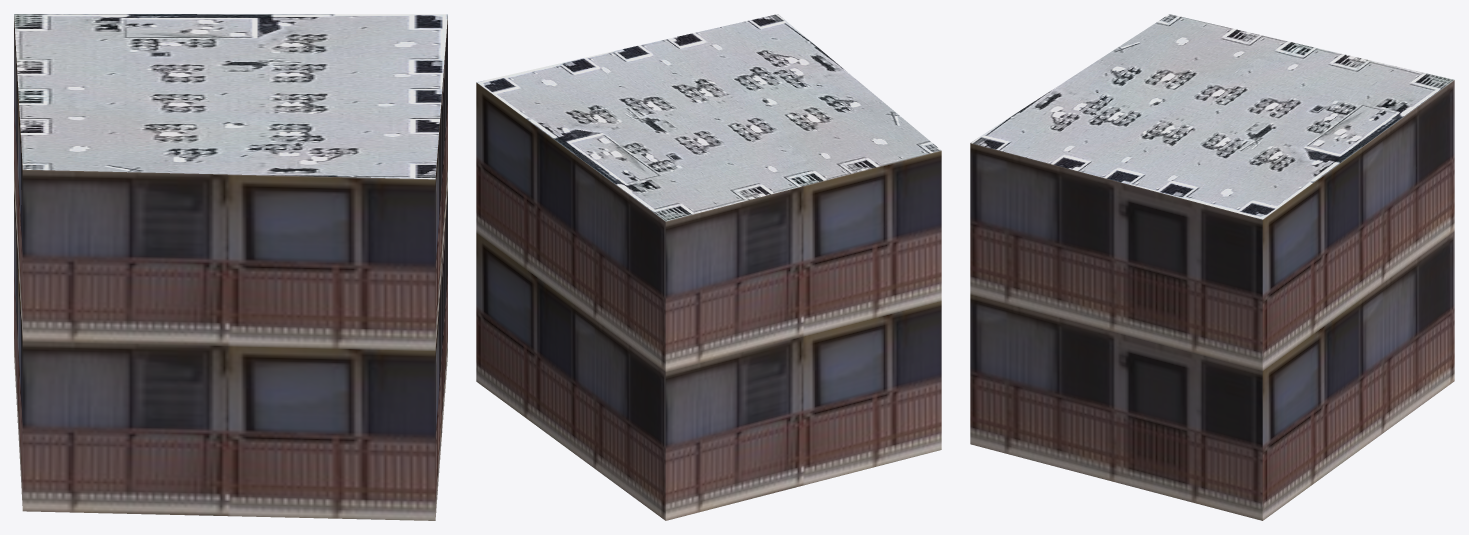
File: ResTex__5190.fbx
3 views of the same model, side by side, from view 1: azimuth 30°, elevation 25°; view 2: azimuth 150°, elevation 25°; view 3: azimuth 270°, elevation 25° (orthographic). The views are drawn at different scales.
Visible parts, largest first — view 1: CityEngineMaterial_6_m, CityEngineMaterial_m; view 2: CityEngineMaterial_6_m, CityEngineMaterial_m; view 3: CityEngineMaterial_6_m, CityEngineMaterial_m.
Part boxes in pixels (x1,y1,x2,y2): CityEngineMaterial_6_m: (14, 16, 447, 520); CityEngineMaterial_m: (14, 14, 447, 179); CityEngineMaterial_6_m: (476, 82, 941, 520); CityEngineMaterial_m: (477, 14, 941, 221); CityEngineMaterial_6_m: (970, 80, 1454, 520); CityEngineMaterial_m: (970, 14, 1454, 219).
Bounding box in the file's own units: 8.79 × 6 × 8.75.
Materials: 2 (2 with a texture image).
